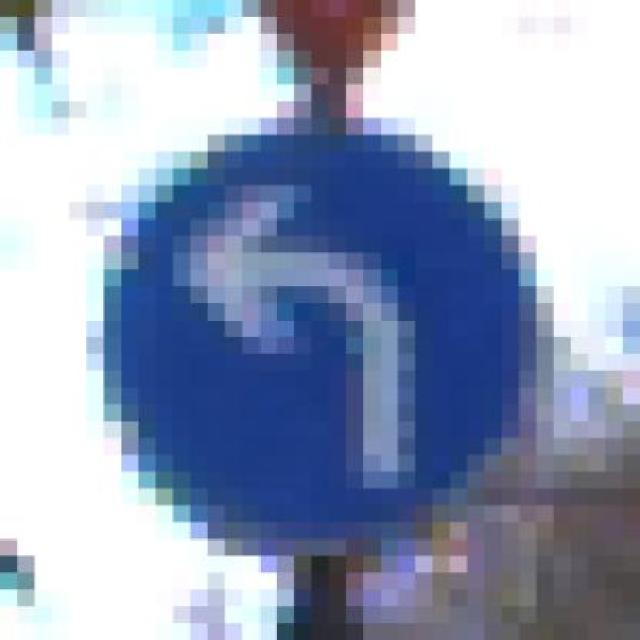Turn left ahead: (69, 118, 571, 573)
